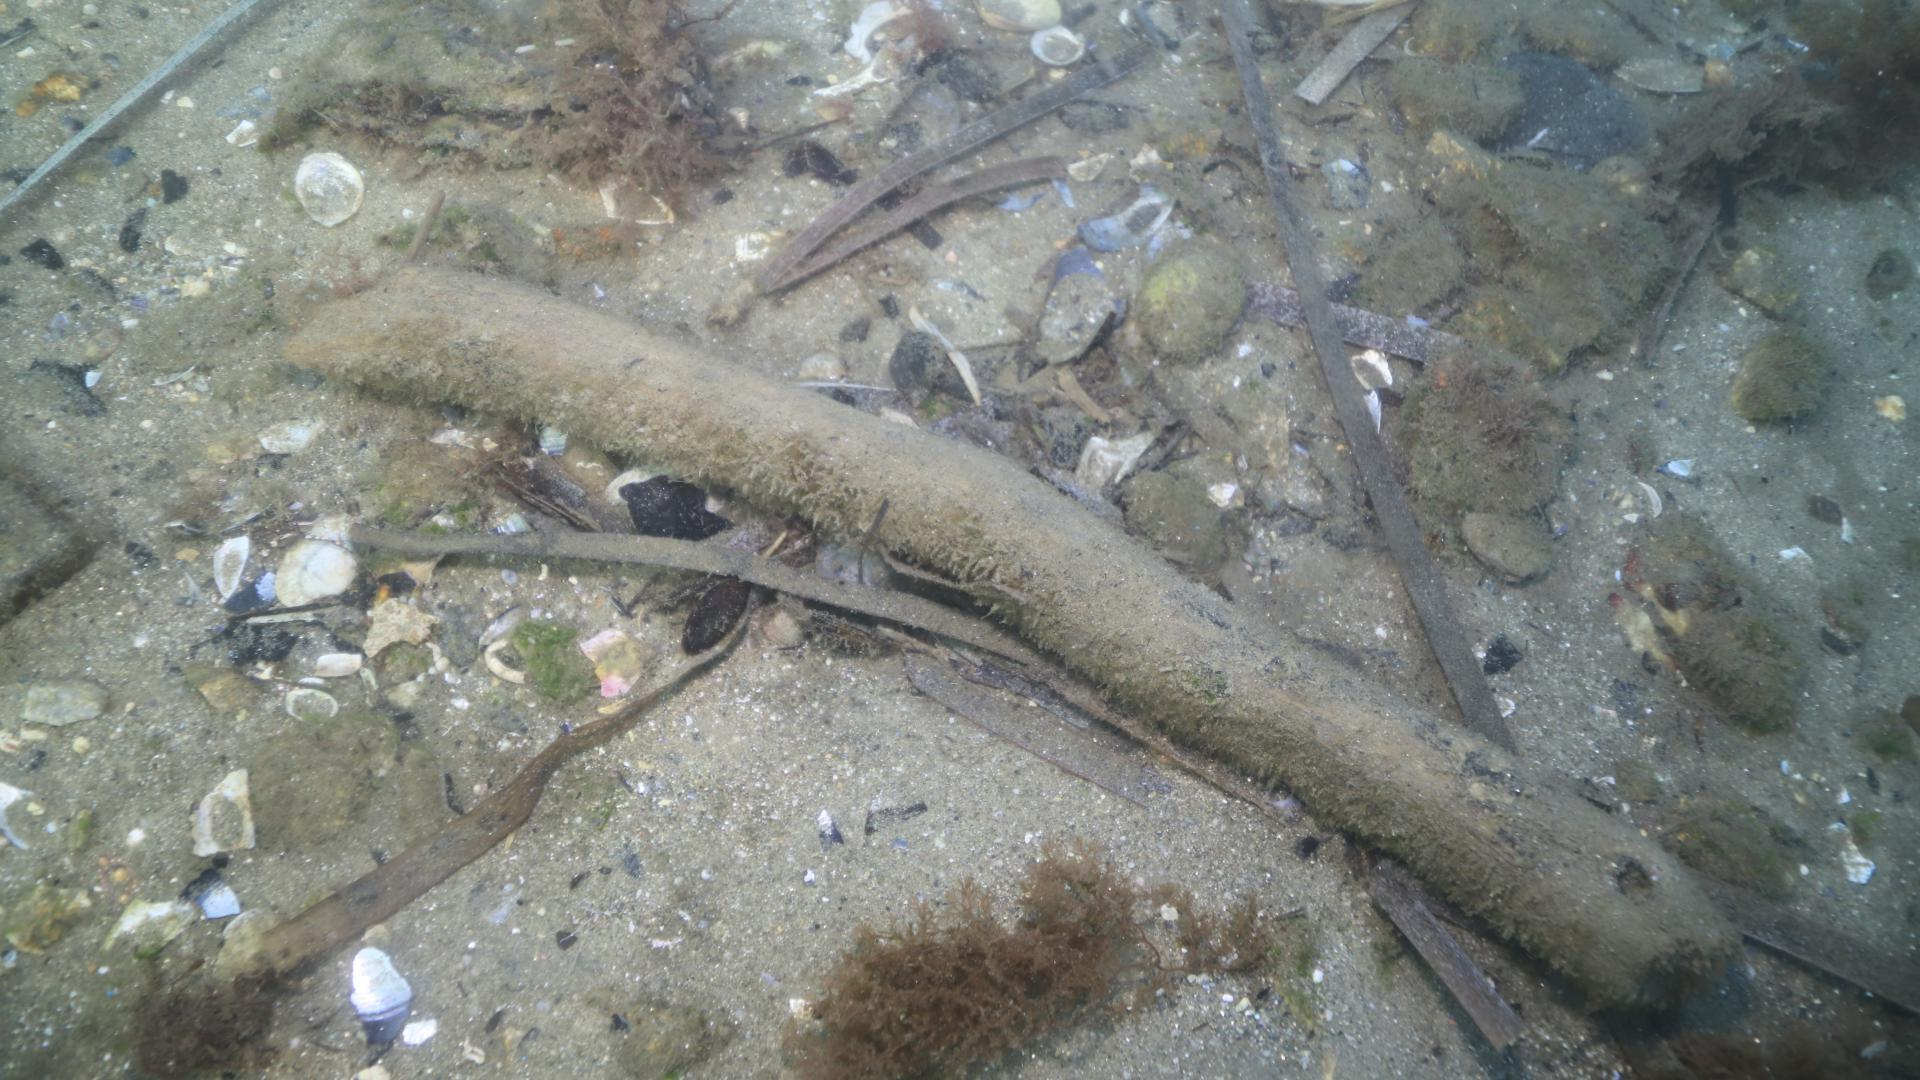wood: (276, 262, 1760, 1050)
